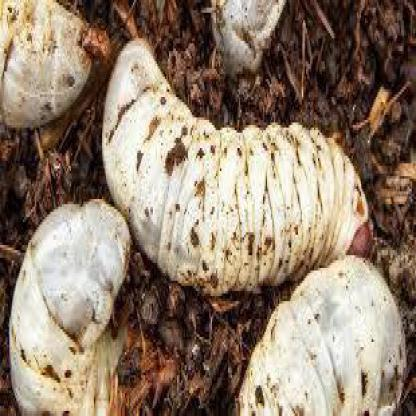root grubs: (104, 38, 375, 300)
